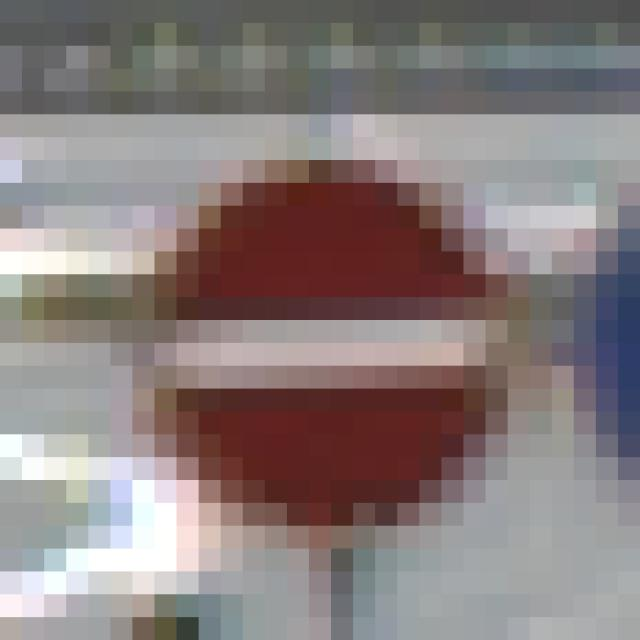No Entry: (111, 115, 531, 527)
